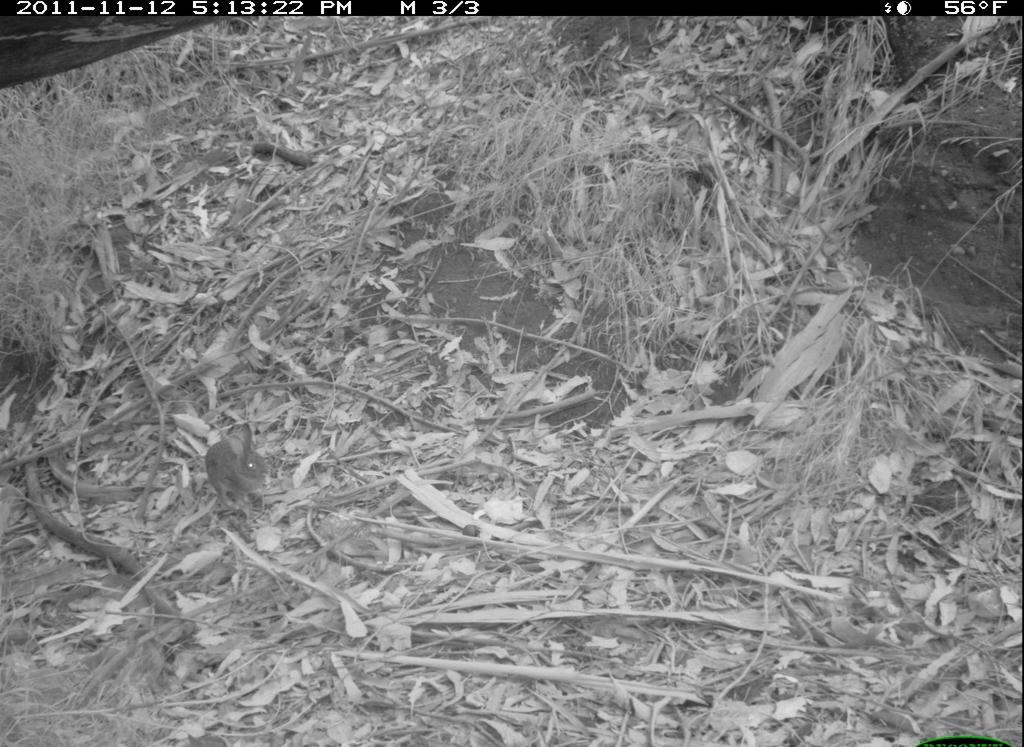rabbit: (194, 415, 285, 518)
